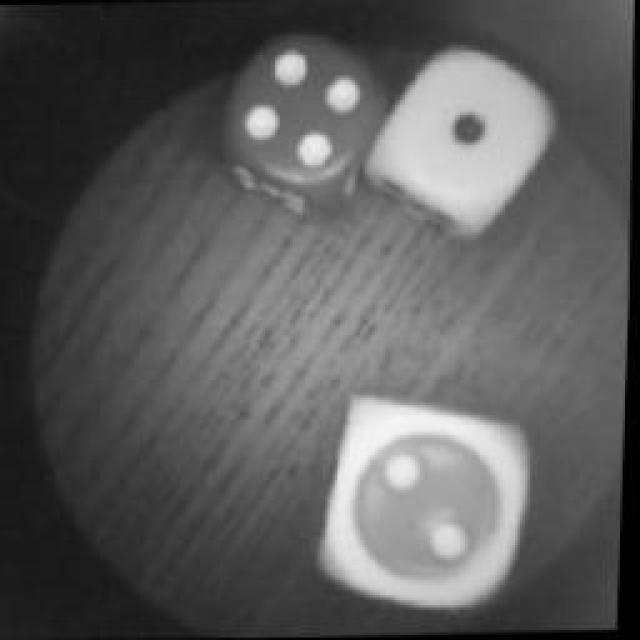dice_1: (372, 45, 568, 235)
dice_2: (320, 390, 535, 618)
dice_4: (224, 28, 388, 200)
